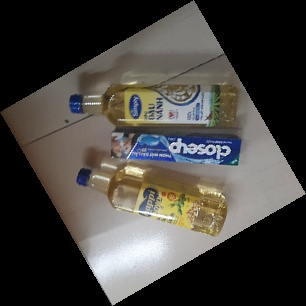CloseUp Tuyet: (109, 127, 243, 173)
Happy Soya: (76, 166, 229, 240)
Simply: (70, 79, 243, 132)
